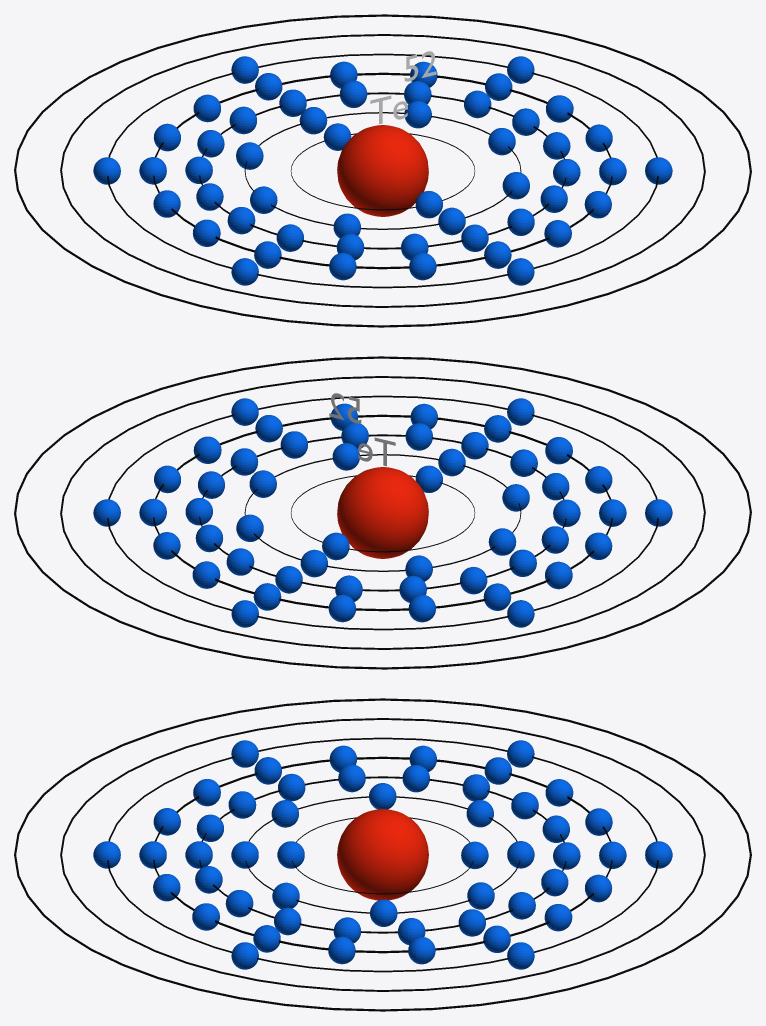
3 views of the same model, one above another, from view 1: azimuth 30°, elevation 25°; view 2: azimuth 150°, elevation 25°; view 3: azimuth 270°, elevation 25° (orthographic).
Parts seen in each view (by area): view 1: Te3, Te4, Proton, Te2, n7, n6, Te5, n5, n4, Te1, n3, n2; view 2: Te3, Te4, Proton, Te2, n7, n6, Te5, n5, n4, Te1, n3, n2; view 3: Te3, Te4, Proton, Te2, n7, n6, Te5, n5, n4, Te1, n3, n2 (+1 smaller).
Part boxes in pixels (x1=…): Te3: x1=185, y1=80, x2=580, y2=260; Te4: x1=139, y1=61, x2=626, y2=280; Proton: x1=337, y1=125, x2=428, y2=216; Te2: x1=236, y1=101, x2=529, y2=238; n7: x1=14, y1=14, x2=751, y2=327; n6: x1=60, y1=34, x2=705, y2=307; Te5: x1=93, y1=56, x2=672, y2=285; n5: x1=107, y1=53, x2=658, y2=288; n4: x1=153, y1=72, x2=612, y2=269; Te1: x1=323, y1=123, x2=442, y2=218; n3: x1=199, y1=92, x2=566, y2=249; n2: x1=244, y1=112, x2=521, y2=229; Te3: x1=185, y1=422, x2=580, y2=602; Te4: x1=139, y1=403, x2=626, y2=622; Proton: x1=337, y1=467, x2=428, y2=558; Te2: x1=236, y1=443, x2=529, y2=581; n7: x1=14, y1=356, x2=751, y2=669; n6: x1=60, y1=376, x2=705, y2=649; Te5: x1=93, y1=398, x2=672, y2=627; n5: x1=107, y1=395, x2=658, y2=630; n4: x1=153, y1=414, x2=612, y2=611; Te1: x1=322, y1=465, x2=442, y2=560; n3: x1=199, y1=434, x2=566, y2=591; n2: x1=244, y1=454, x2=521, y2=571; Te3: x1=185, y1=764, x2=580, y2=944; Te4: x1=139, y1=745, x2=626, y2=964; Proton: x1=337, y1=809, x2=428, y2=900; Te2: x1=231, y1=783, x2=534, y2=926; n7: x1=14, y1=698, x2=751, y2=1011; n6: x1=60, y1=718, x2=705, y2=991; Te5: x1=93, y1=740, x2=672, y2=969; n5: x1=107, y1=737, x2=658, y2=972; n4: x1=153, y1=756, x2=612, y2=953; Te1: x1=277, y1=841, x2=488, y2=869; n3: x1=199, y1=776, x2=566, y2=933; n2: x1=245, y1=796, x2=520, y2=913.
Size of the model in its own units: 802 by 180 by 802.
